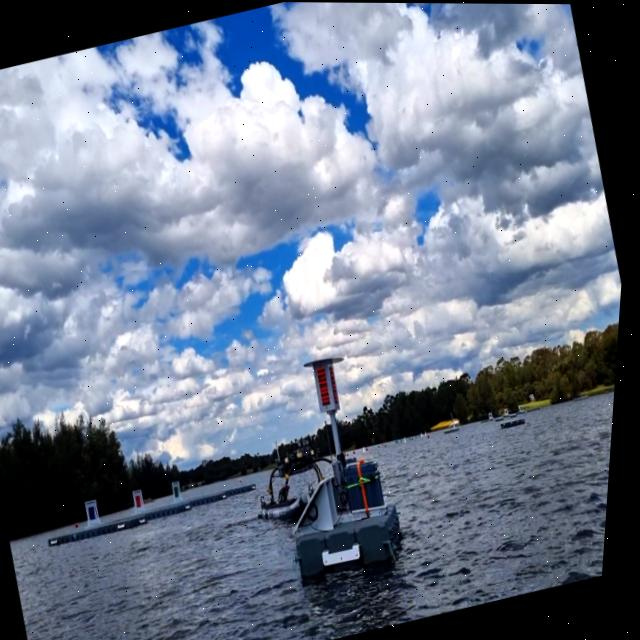led: (316, 361, 342, 411)
